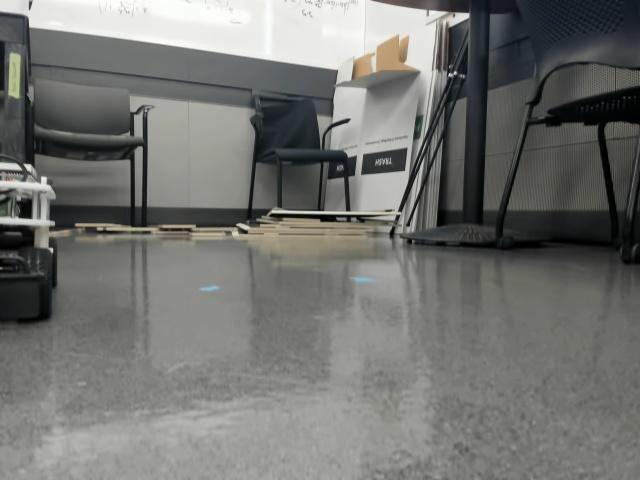Car: (2, 147, 57, 319)
